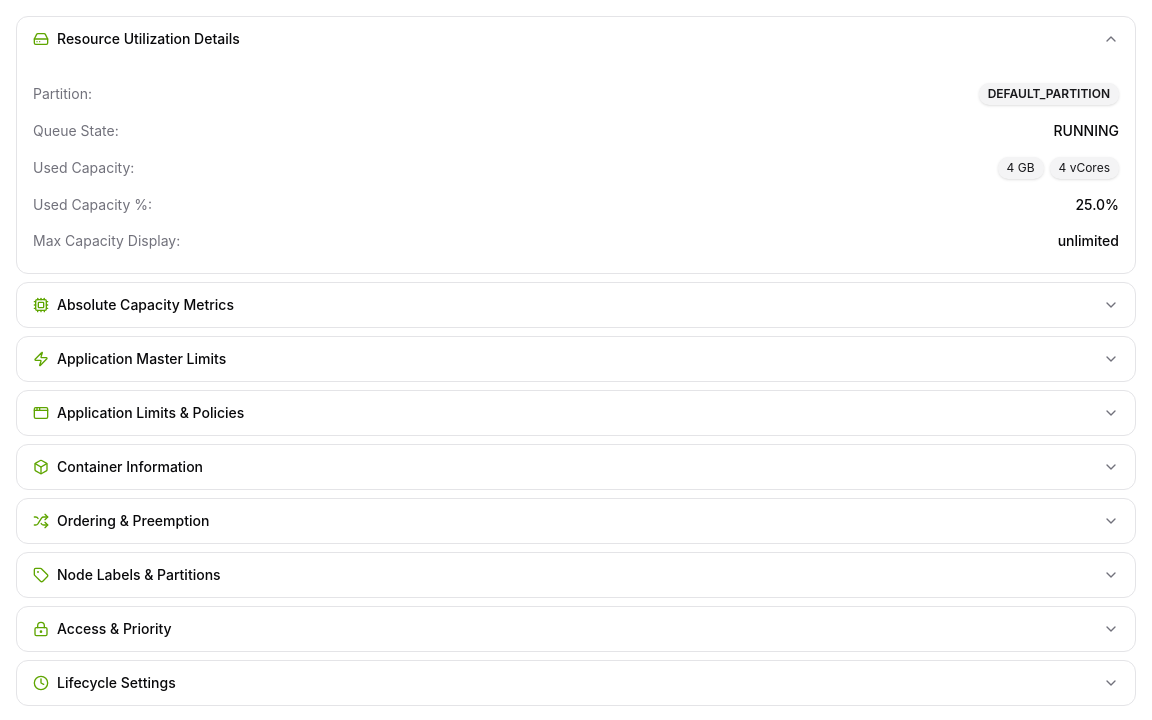
Test: QueueInfoTab › Ordering & Preemption section › should display preemption status as disabled badge
Click the button "Ordering & Preemption".
click(133, 520)  # box [17,499,1135,543]
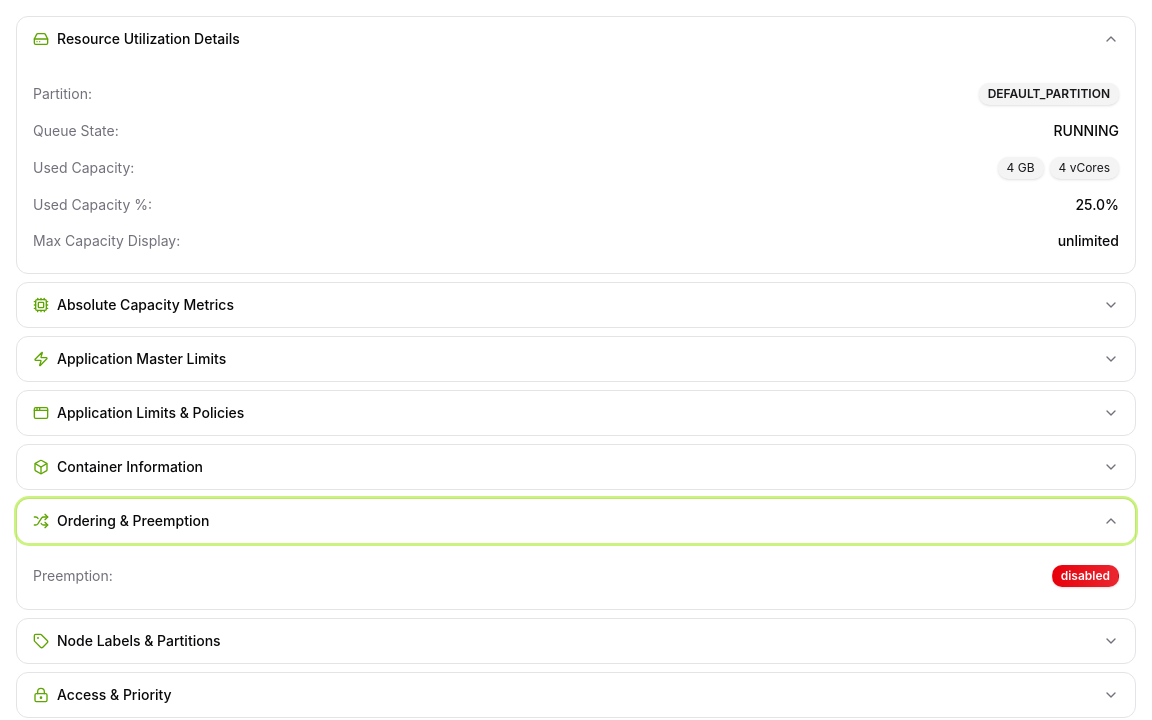
Check: the text "disabled" is shown, box [1052,565,1119,587]
